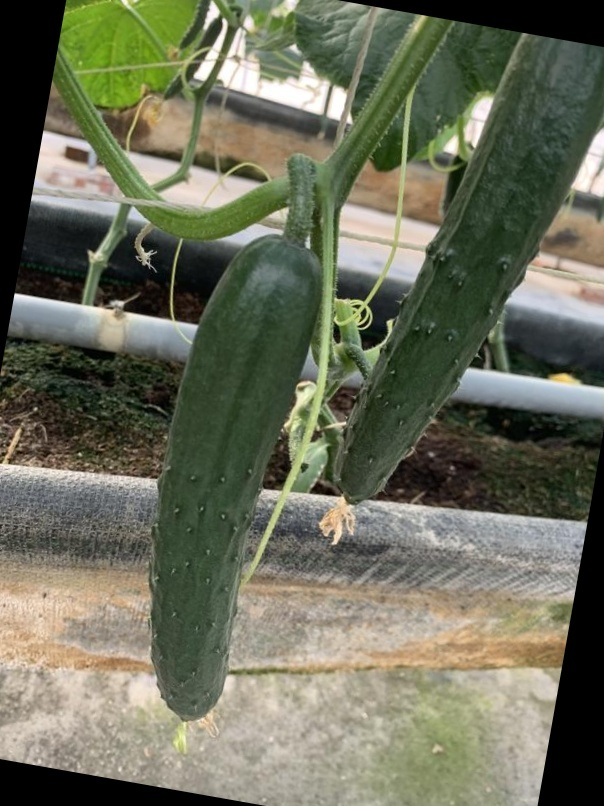mature: (334, 44, 603, 509), (137, 250, 306, 731)
